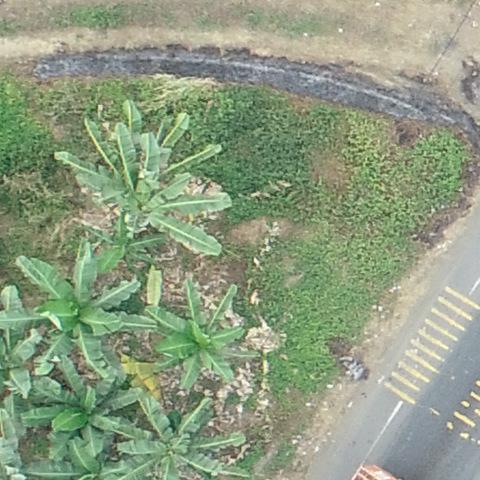Banana-plant: (52, 98, 231, 260), (12, 240, 158, 383), (145, 279, 265, 398), (17, 353, 152, 456), (111, 389, 249, 478), (0, 399, 88, 480), (79, 210, 164, 277)
